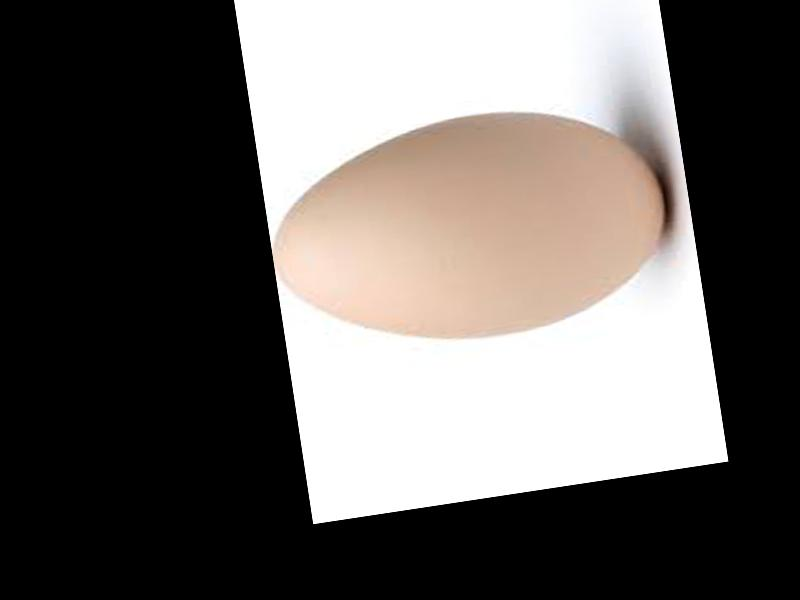Eggs: (259, 89, 682, 364)
